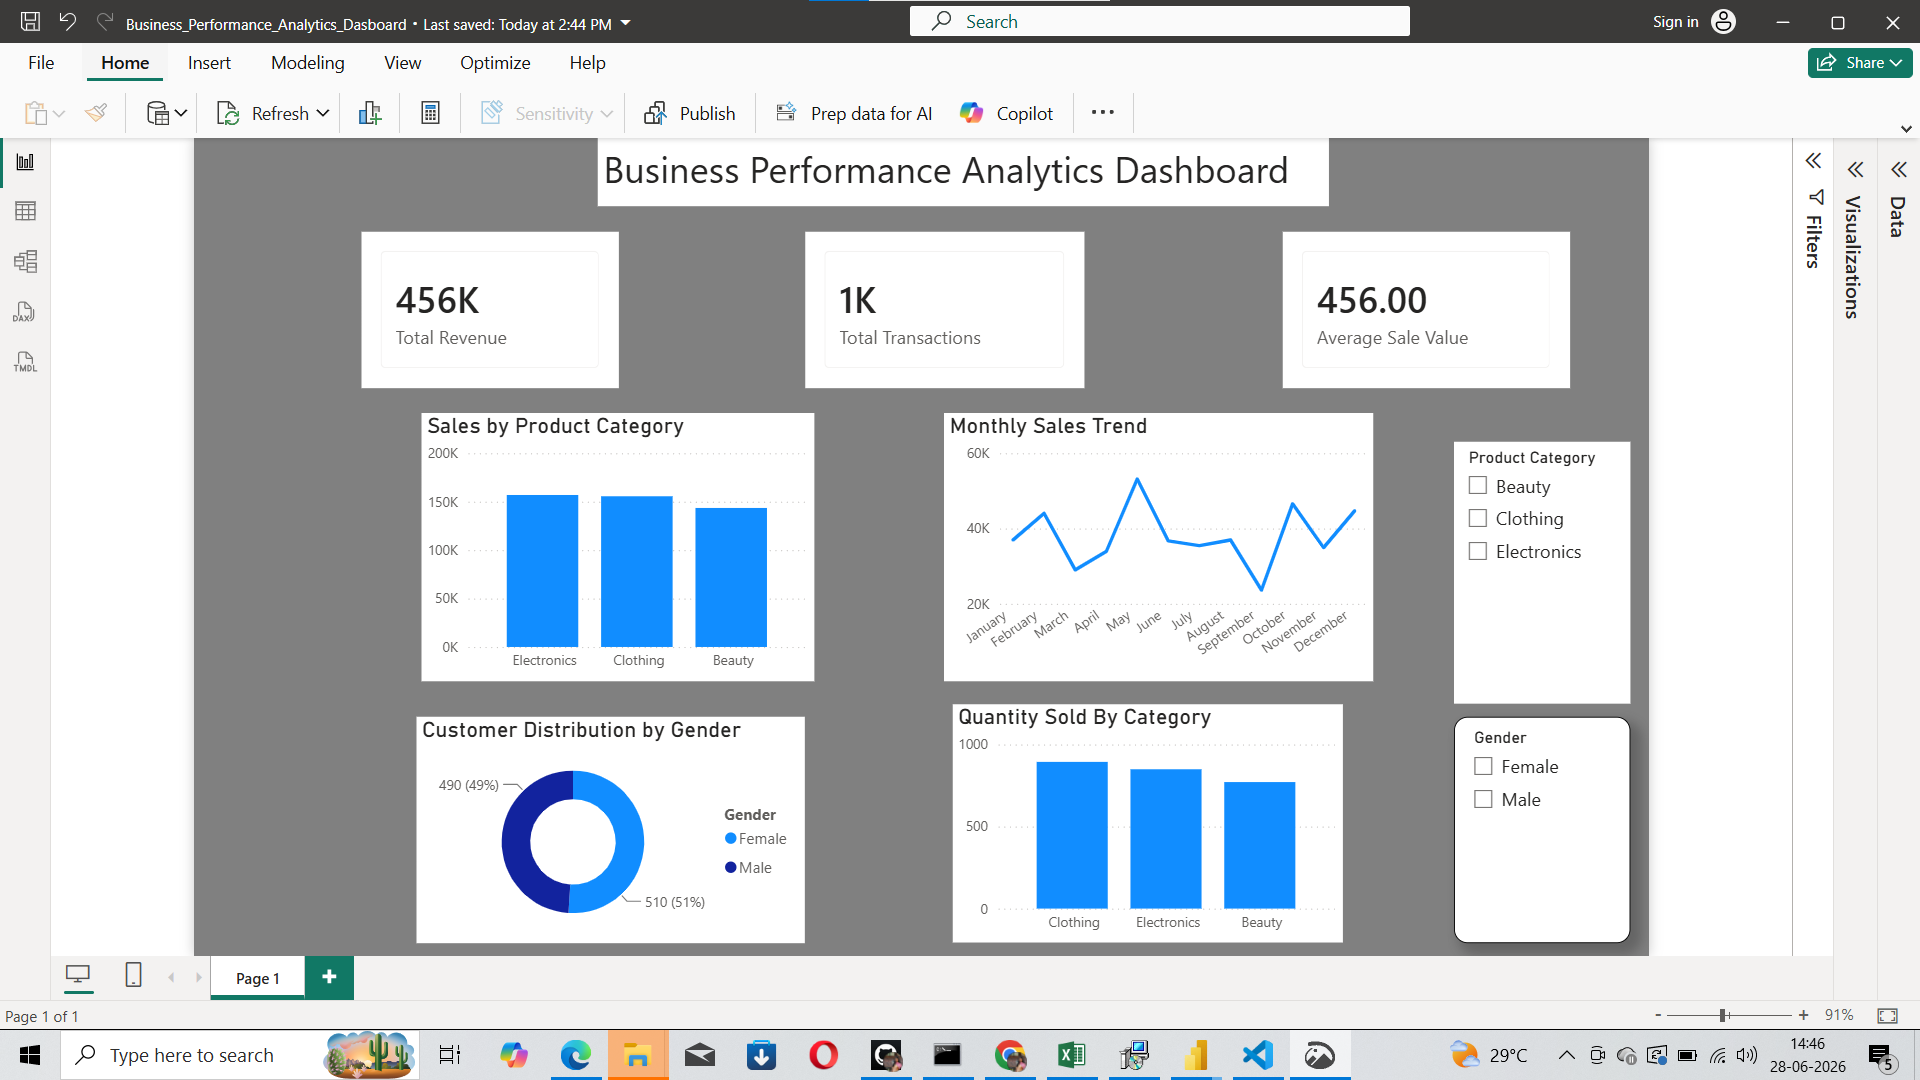

The dashboard page shown, as its layout file describes it:
{"tool":"powerbi","page":{"name":"Page 1","canvas":[1280,720],"ordinal":0},"visuals":[{"type":"cardVisual","title":"Total Revenue","fields":{"Data":["Sum(retail_sales_dataset.Total Amount)"]},"box":[146.8,82.3,226.4,137.2],"z":0},{"type":"cardVisual","fields":{"Data":["CountNonNull(retail_sales_dataset.Transaction ID)"]},"box":[537.9,82.3,245.6,137.2],"z":1},{"type":"cardVisual","fields":{"Data":["Avg(retail_sales_dataset.Total Amount)"]},"box":[957.8,82.3,252.5,137.2],"z":2},{"type":"clusteredColumnChart","title":"Sales by Product Category","fields":{"Category":["retail_sales_dataset.Product Category"],"Y":["Sum(retail_sales_dataset.Total Amount)"]},"box":[200.3,241.5,345.8,236],"z":3},{"type":"lineChart","title":"Monthly Sales Trend","fields":{"Category":["retail_sales_dataset.Date.Variation.Date Hierarchy.Month"],"Y":["Sum(retail_sales_dataset.Total Amount)"]},"box":[660,241.5,377.4,236],"z":4},{"type":"donutChart","title":"Customer Distribution by Gender","fields":{"Category":["retail_sales_dataset.Gender"],"Y":["CountNonNull(retail_sales_dataset.Transaction ID)"]},"box":[196.2,509.1,341.7,199],"z":5},{"type":"clusteredColumnChart","title":"Quantity Sold By Category","fields":{"Category":["retail_sales_dataset.Product Category"],"Y":["Sum(retail_sales_dataset.Quantity)"]},"box":[666.9,498.1,343.1,209.9],"z":6},{"type":"slicer","fields":{"Values":["retail_sales_dataset.Product Category"]},"box":[1108.8,267.6,155.1,230.5],"z":7},{"type":"slicer","fields":{"Values":["retail_sales_dataset.Gender"]},"box":[1108.8,509.1,155.1,199],"z":8},{"type":"textbox","box":[355.4,0,643.6,60.4],"z":9}]}

Visuals, with their boxes on the page's 1280x720 design canvas (x1, y1, x2, y2). These are canvas units, not pixel positions in the 1920x1080 screenshot, which may show the page scaled, cropped or inside an application window:
"Total Revenue" cardVisual: (147, 82, 373, 220)
cardVisual - CountNonNull(retail_sales_dataset.Transaction ID): (538, 82, 784, 220)
cardVisual - Avg(retail_sales_dataset.Total Amount): (958, 82, 1210, 220)
"Sales by Product Category" clusteredColumnChart: (200, 242, 546, 478)
"Monthly Sales Trend" lineChart: (660, 242, 1037, 478)
"Customer Distribution by Gender" donutChart: (196, 509, 538, 708)
"Quantity Sold By Category" clusteredColumnChart: (667, 498, 1010, 708)
slicer - retail_sales_dataset.Product Category: (1109, 268, 1264, 498)
slicer - retail_sales_dataset.Gender: (1109, 509, 1264, 708)
textbox: (355, 0, 999, 60)
